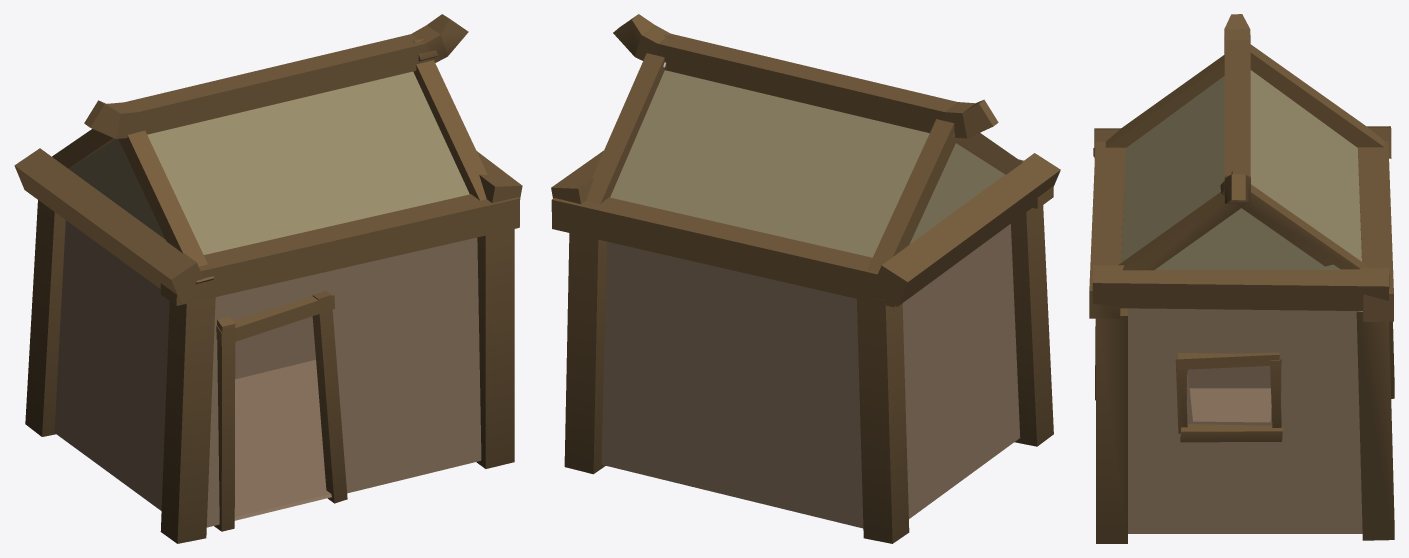
The model's file is house-flat.fbx.
The picture shows the model from 3 angles, left to right: view 1: azimuth 30°, elevation 25°; view 2: azimuth 150°, elevation 25°; view 3: azimuth 270°, elevation 25°; orthographic projection. The views are drawn at different scales.
Visible parts, largest first — view 1: house; view 2: house; view 3: house.
Boxes of the visible parts, x1,y1,x2,y2 form: house: (14,14,522,543); house: (551,14,1060,543); house: (1089,14,1394,543).
Size of the model in its own units: 6.37 by 6.27 by 4.65.
